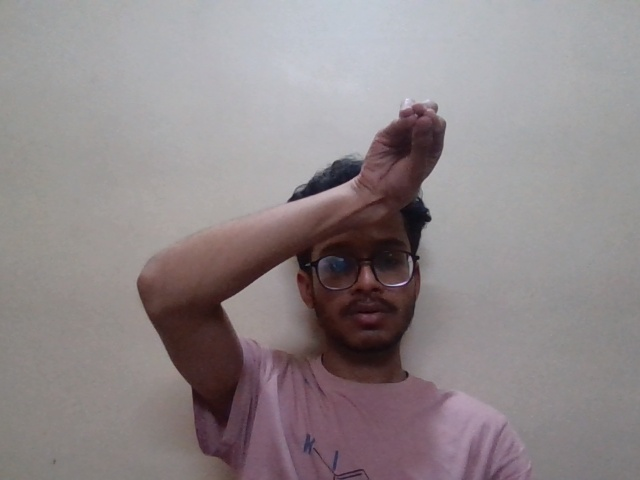talk: (368, 95, 447, 210)
